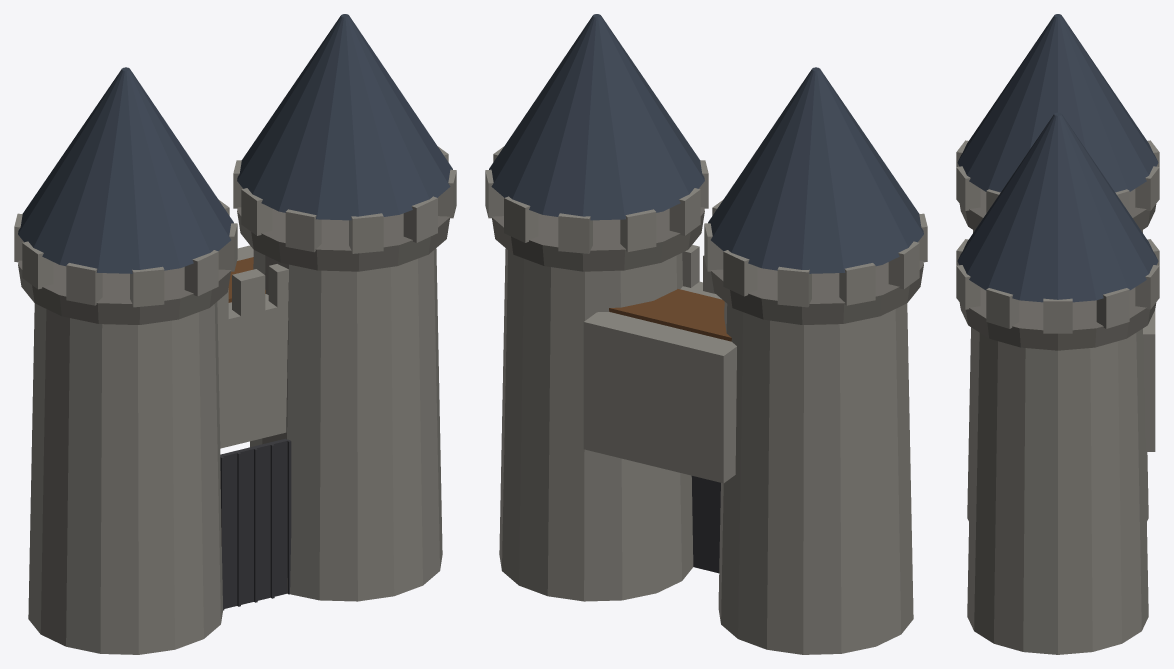
File: gate.glb
The picture shows the model from 3 angles, left to right: view 1: azimuth 30°, elevation 25°; view 2: azimuth 150°, elevation 25°; view 3: azimuth 270°, elevation 25°; orthographic projection. The views are drawn at different scales.
Visible parts, largest first — view 1: Gate; view 2: Gate; view 3: Gate.
Boxes of the visible parts, <box> form: Gate: <box>14,14,456,654</box>; Gate: <box>485,14,927,654</box>; Gate: <box>956,14,1159,654</box>.
Bounding box in the file's own units: 13.5 × 17.1 × 6.27.
